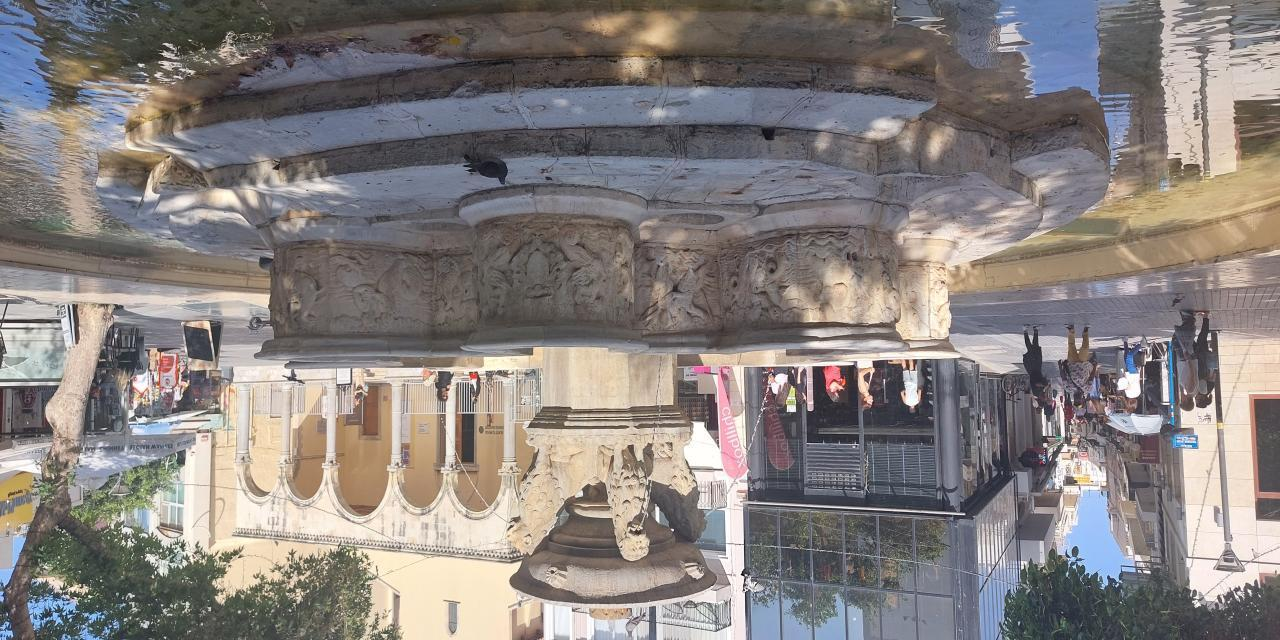Liontaria: (258, 199, 969, 613)
